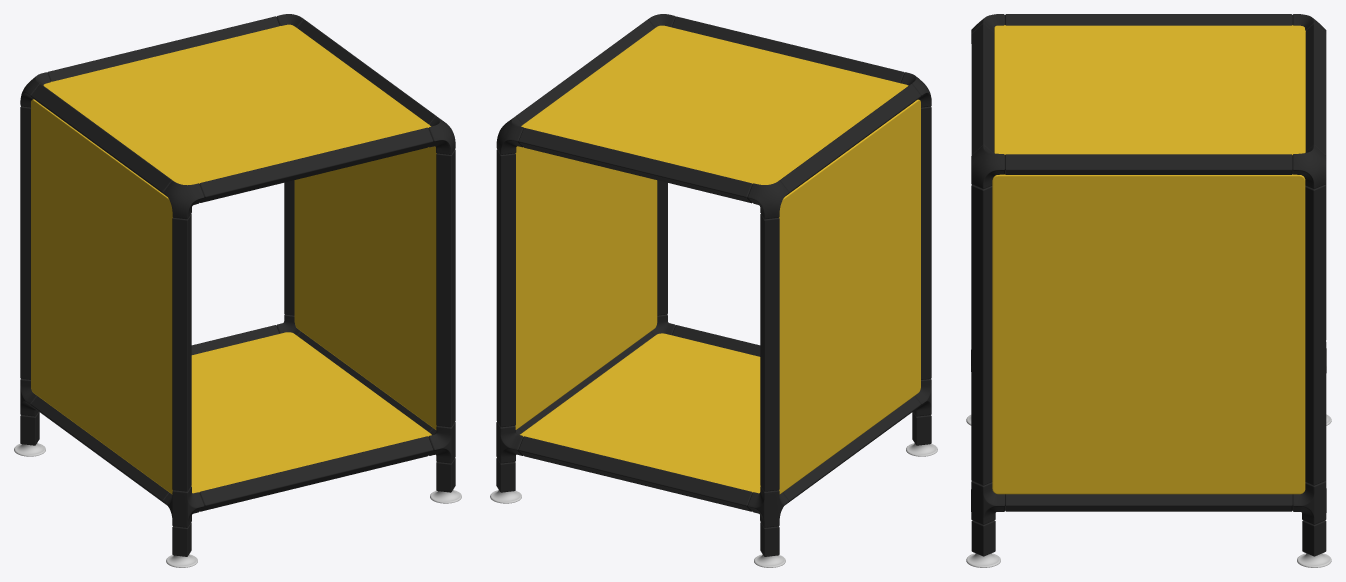
3 renders of one model, left to right at view 1: azimuth 30°, elevation 25°; view 2: azimuth 150°, elevation 25°; view 3: azimuth 270°, elevation 25°, orthographic. The views are drawn at different scales.
Parts seen in each view (by area): view 1: 329x329x374; view 2: 329x329x374; view 3: 329x329x374.
Part boxes in pixels (<box>): 329x329x374: <box>14,14,461,567</box>; 329x329x374: <box>490,14,937,567</box>; 329x329x374: <box>966,14,1331,567</box>.
Bounding box in the file's own units: 0.4189 × 0.5133 × 0.4182.
